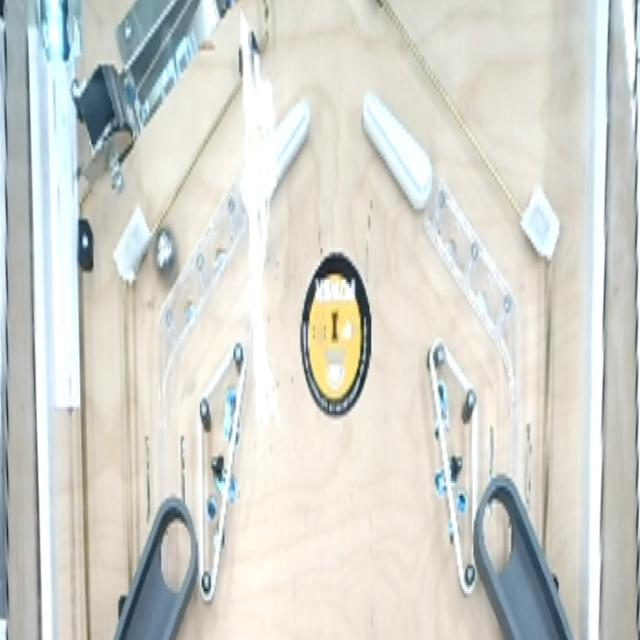ball: (151, 225, 184, 289)
flipper-left: (359, 90, 438, 237)
flipper-right: (237, 88, 315, 240)
